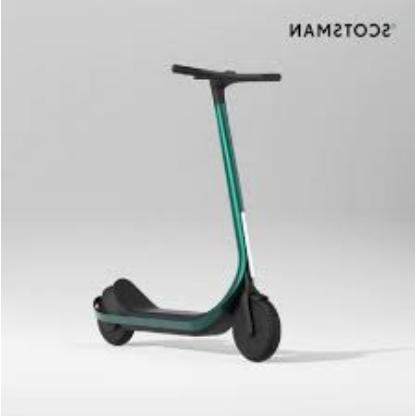bike: (92, 63, 283, 365)
